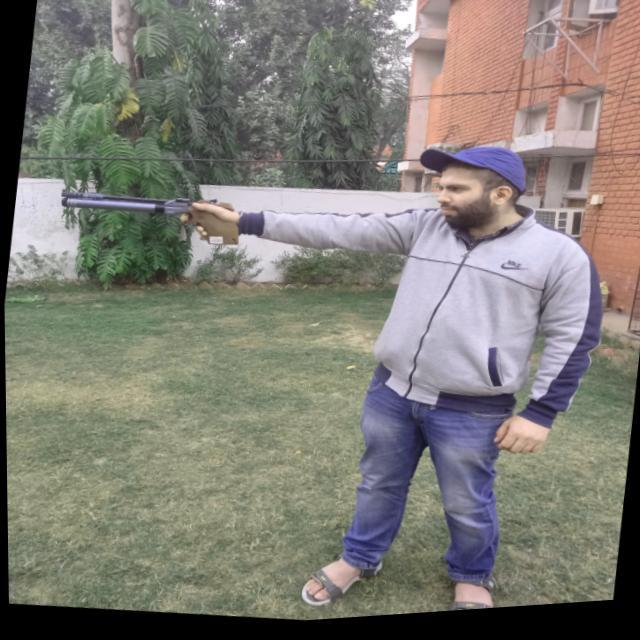weapon: (52, 176, 247, 262)
